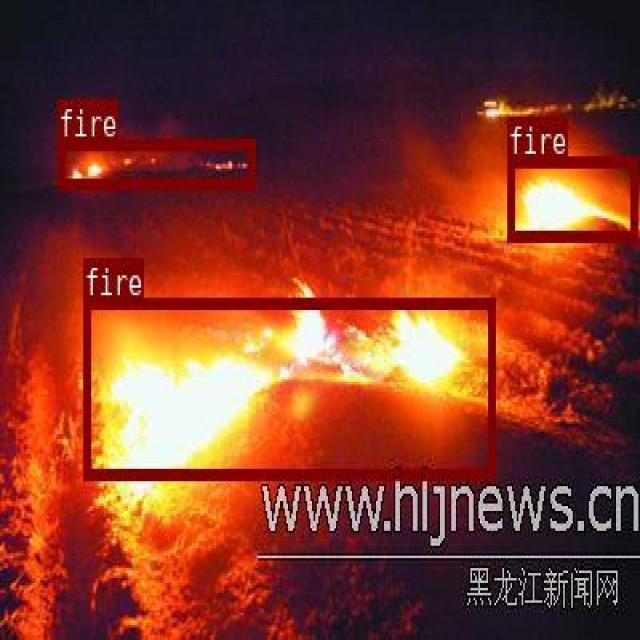fire: (83, 296, 494, 477), (507, 154, 635, 238), (57, 139, 254, 189)
